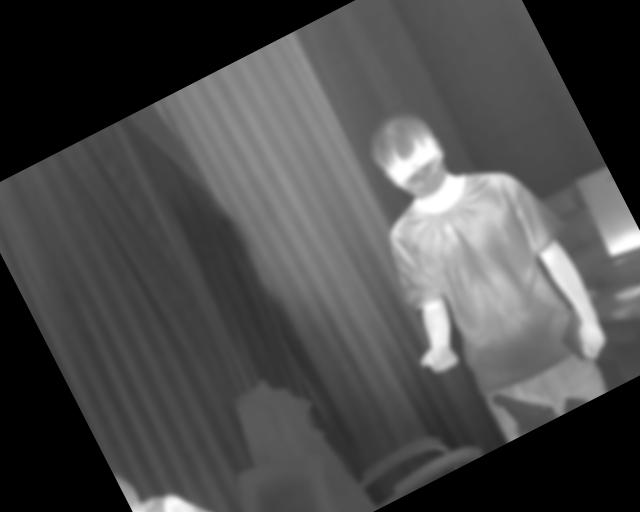face: (360, 102, 460, 213)
